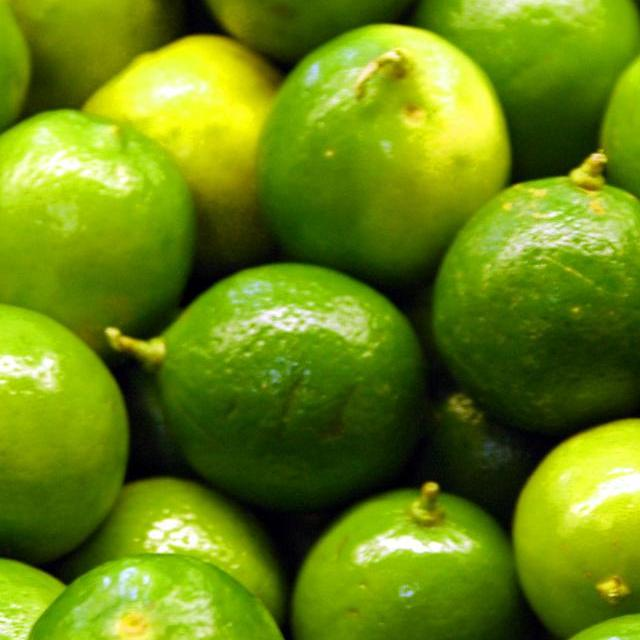lime: (259, 27, 514, 289), (159, 266, 424, 499), (432, 180, 640, 448), (74, 36, 287, 284), (0, 113, 193, 338), (408, 0, 640, 184), (294, 487, 539, 640), (0, 306, 130, 568), (513, 421, 640, 640), (5, 0, 185, 115), (31, 562, 276, 640)
